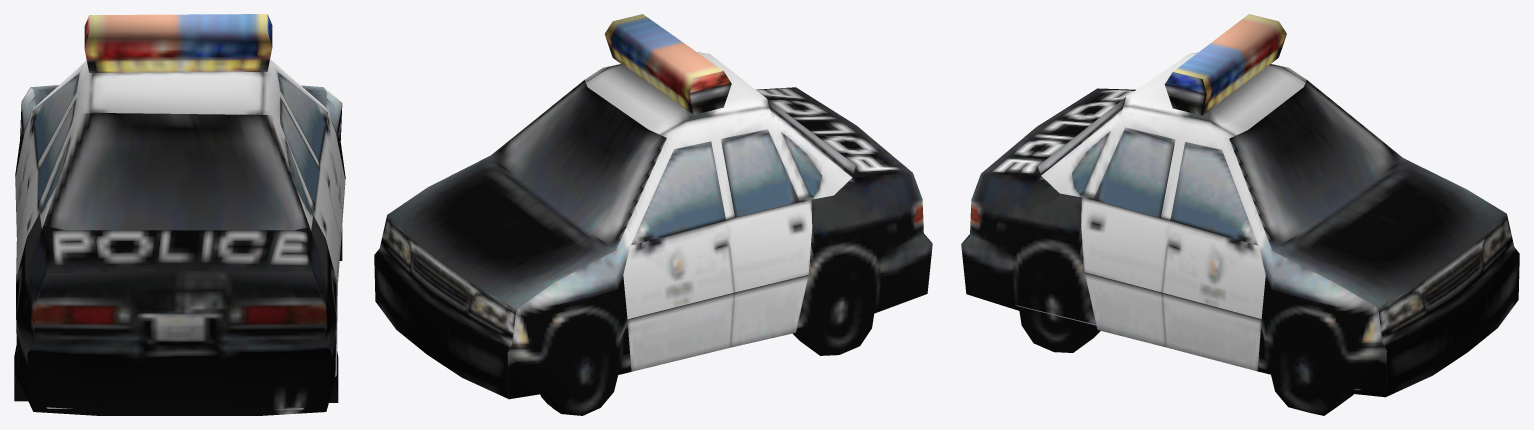
The model's file is mcicon_eu.ico.obj.
3 renders of one model, left to right at view 1: azimuth 30°, elevation 25°; view 2: azimuth 150°, elevation 25°; view 3: azimuth 270°, elevation 25°, orthographic. The views are drawn at different scales.
Bounding box in the file's own units: 4.28 × 2.78 × 5.04.
1 material, 1 textured.
